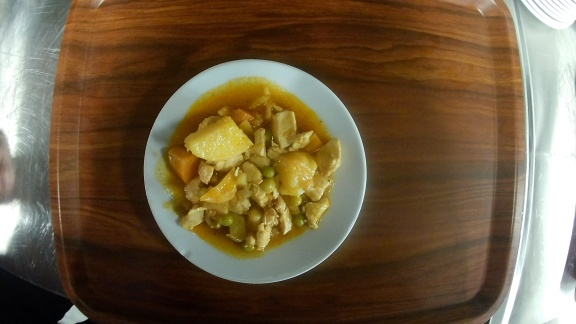bezelyelitavuk: (141, 57, 369, 287)
